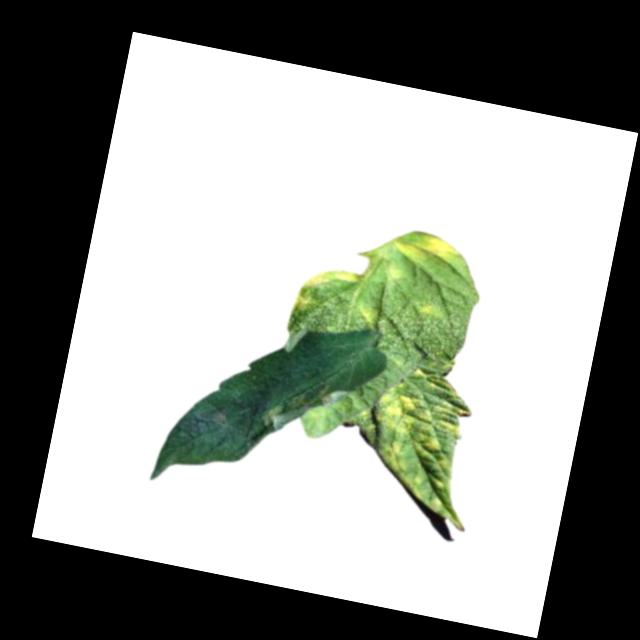Leaf_Mold: (357, 375, 475, 518), (259, 367, 349, 443), (293, 262, 361, 321), (394, 227, 461, 272), (414, 297, 440, 321), (360, 304, 380, 326)
